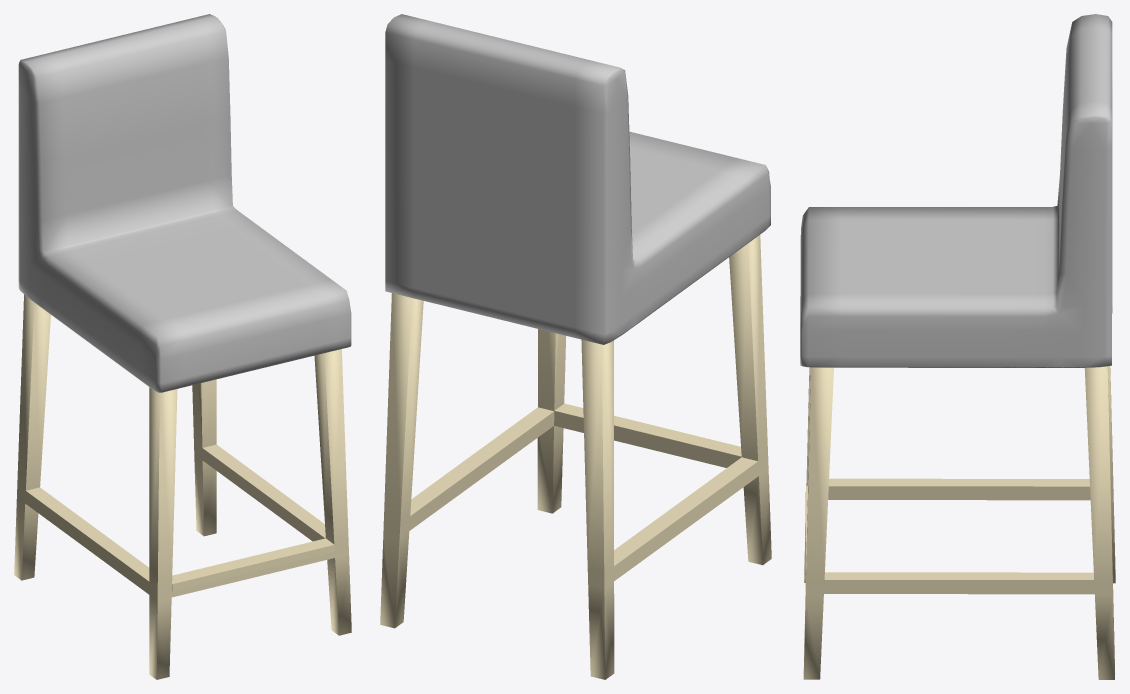
The model's file is IKEA-Henriksdal_Bar_Stool-3D.obj.
The picture shows the model from 3 angles, left to right: view 1: azimuth 30°, elevation 25°; view 2: azimuth 150°, elevation 25°; view 3: azimuth 270°, elevation 25°; orthographic projection. The views are drawn at different scales.
Visible parts, largest first — view 1: Box01; view 2: Box01; view 3: Box01.
Boxes of the visible parts, left/top/right/bottom form: Box01: left=14, top=14, right=351, bottom=679; Box01: left=380, top=14, right=771, bottom=679; Box01: left=800, top=14, right=1115, bottom=679.
Bounding box in the file's own units: 402 × 1019 × 516.
